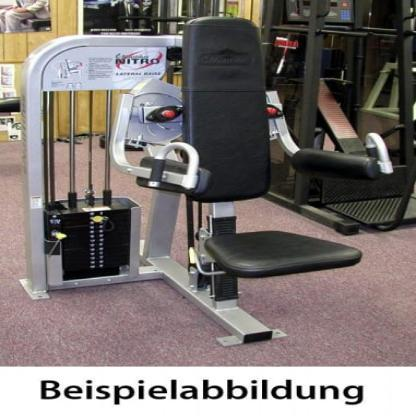lateral raises machine: (27, 15, 393, 346)
